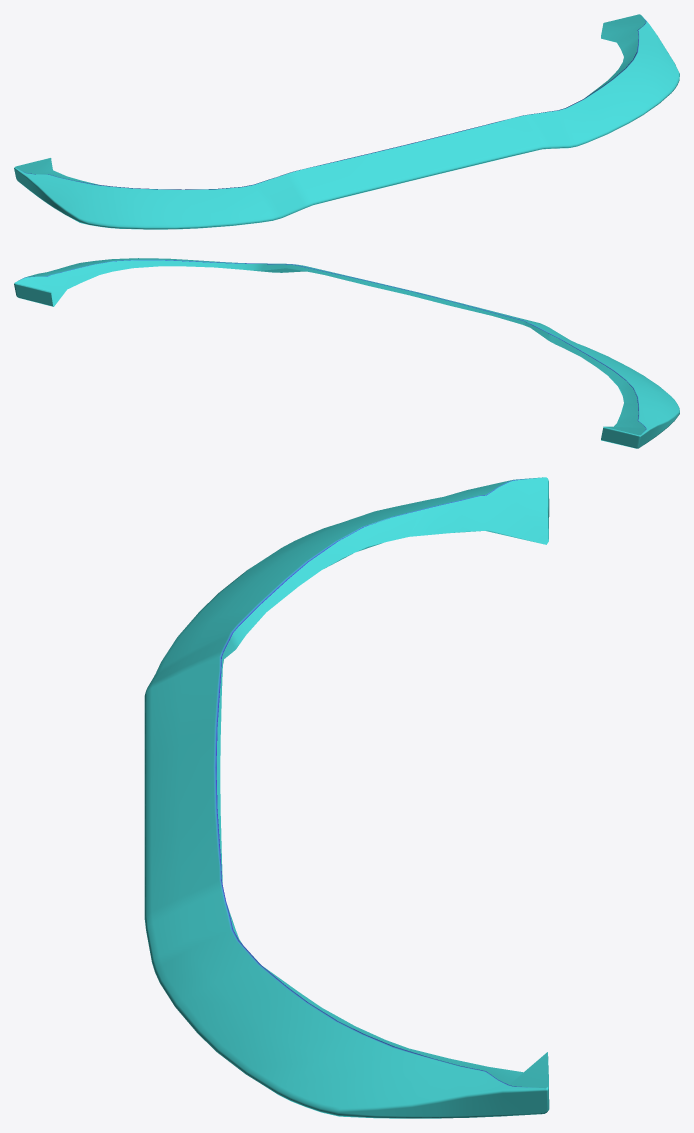
The model's file is Car_Mini_CountrymanJCW_2017_Splitter_SetB_AltK.fbx.
The picture shows the model from 3 angles, top to bottom: view 1: azimuth 30°, elevation 25°; view 2: azimuth 150°, elevation 25°; view 3: azimuth 270°, elevation 25°; orthographic projection. The views are drawn at different scales.
Visible parts, largest first — view 1: Splitter 6; view 2: Splitter 6; view 3: Splitter 6.
Part boxes in pixels (<box>): Splitter 6: <box>14,14,679,229</box>; Splitter 6: <box>14,258,679,448</box>; Splitter 6: <box>144,477,549,1118</box>.
Size of the model in its own units: 1.73 by 0.0776 by 0.483.
